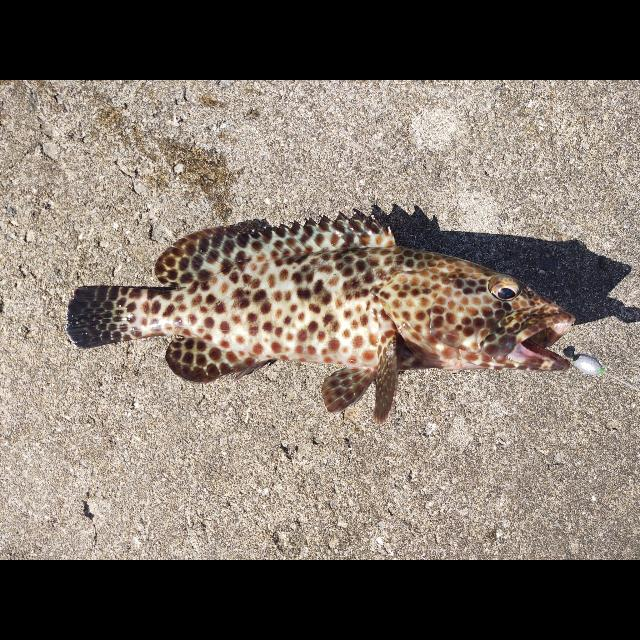Groupers: (64, 207, 576, 419)
